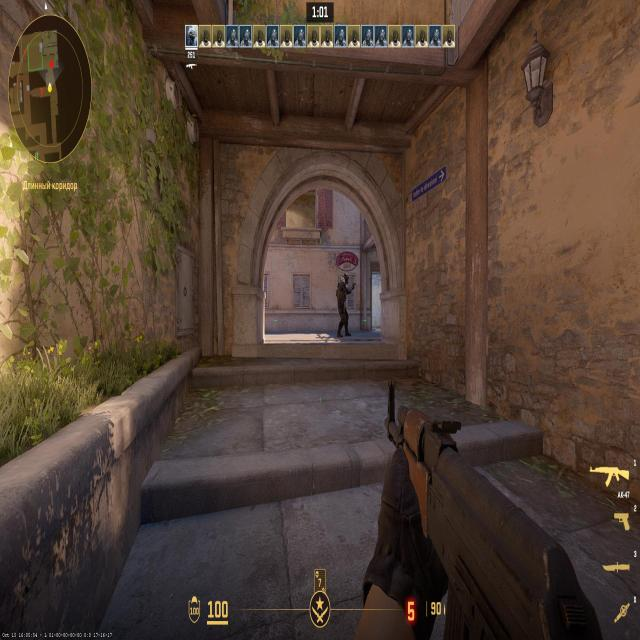CT: (335, 265, 350, 336)
CT_heat: (341, 276, 345, 288)
